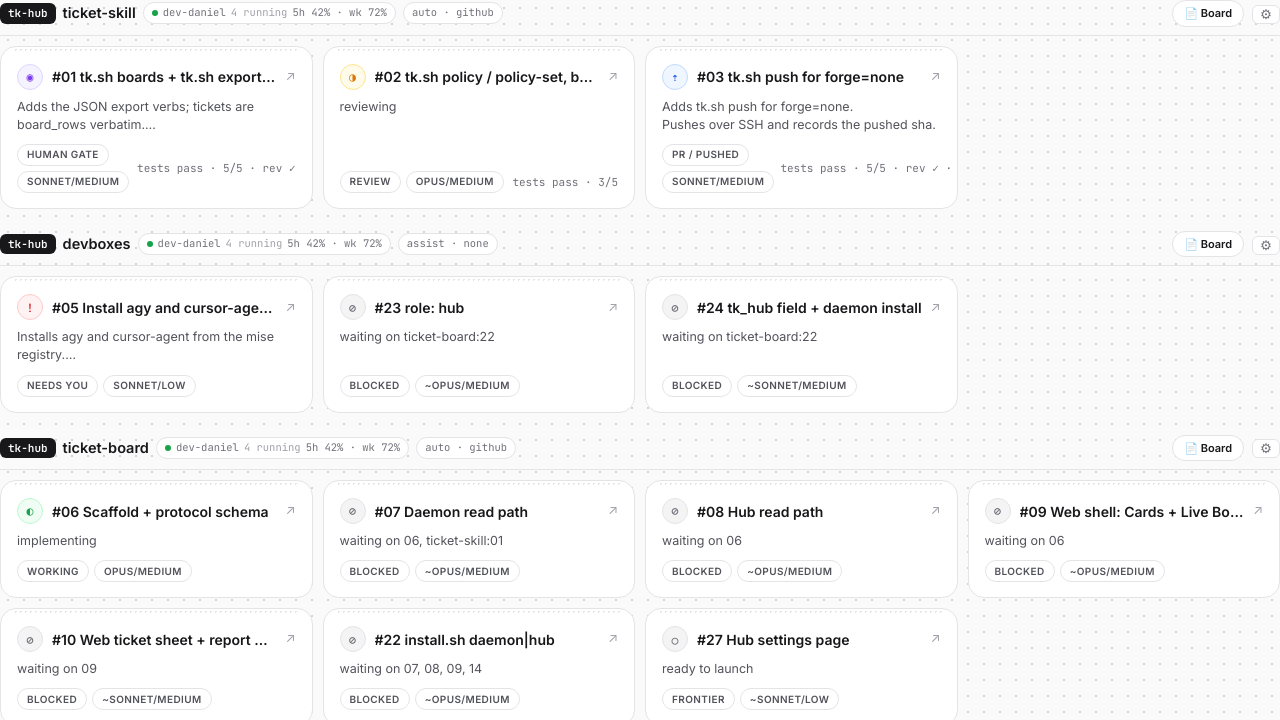
Test: BoardBar policy › shows each value with the layer it comes from
Click the button named "Board policy" at coordinates (1266, 449), box [1252,439,1279,458]
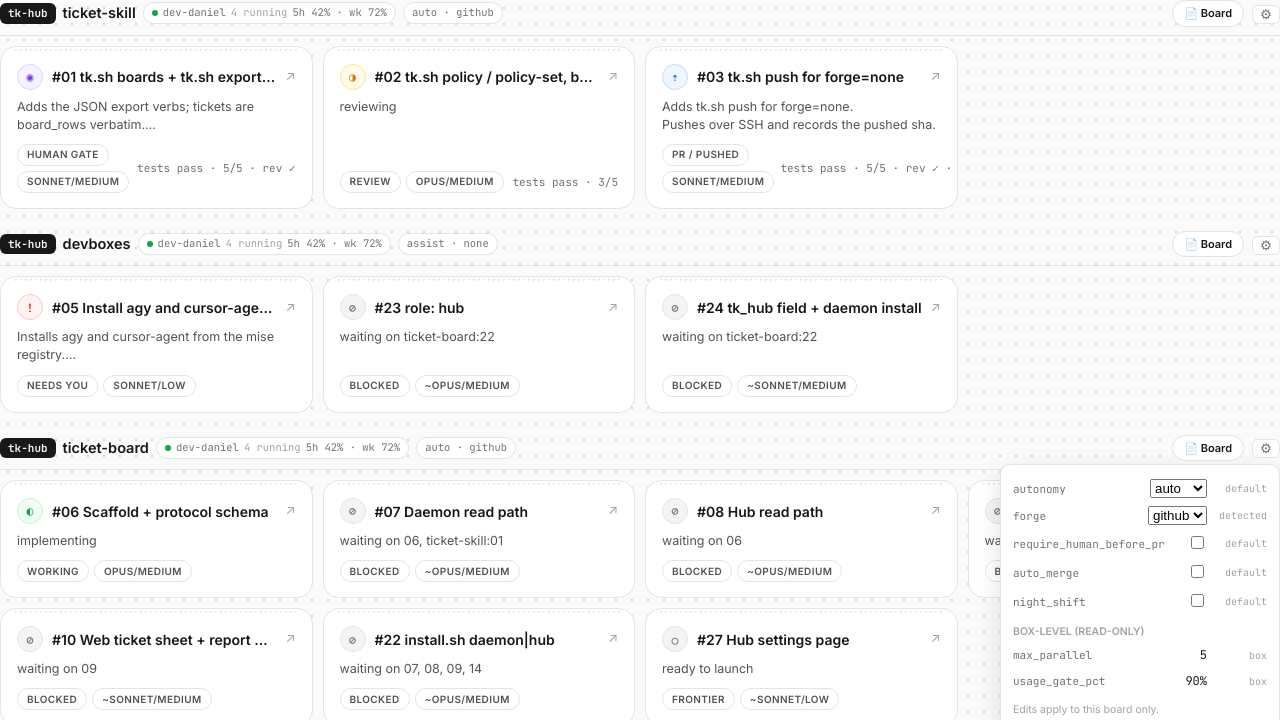
Expected: the dropdown named "autonomy" shows "auto", [1150,479,1207,498]
Expected: the element "autonomy" shows "default", [1225,482,1267,495]
Expected: the element "forge" shows "detected", [1219,509,1267,522]
